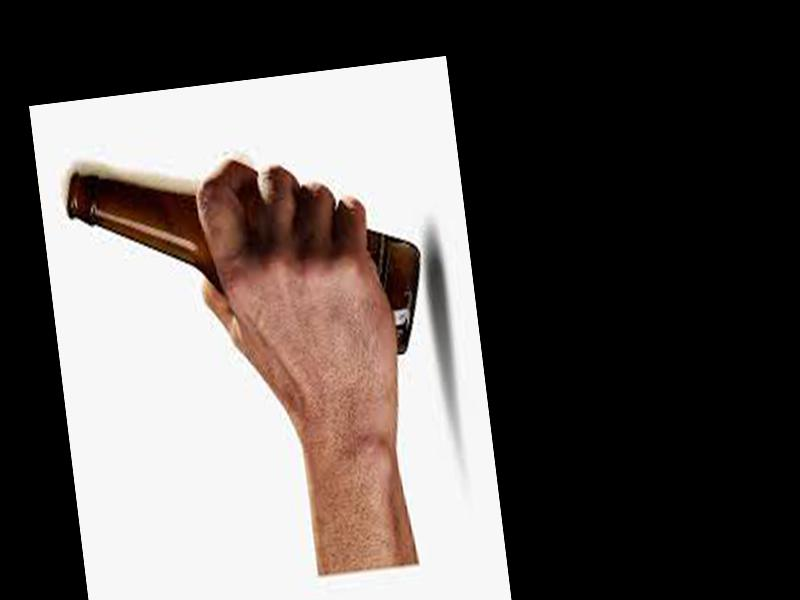Beer: (64, 131, 436, 391)
